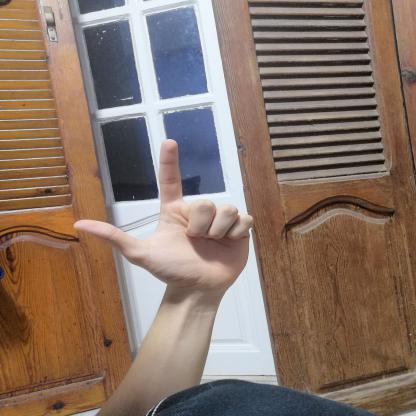LAAM: (59, 130, 261, 299)
